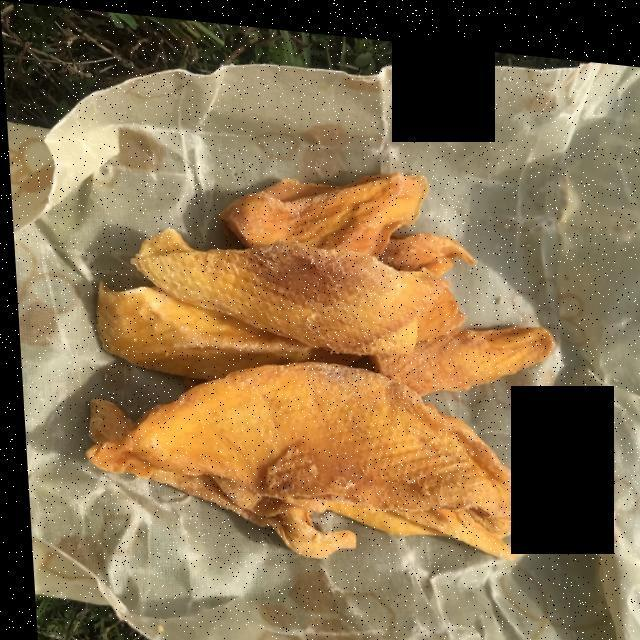mango-dried: (43, 138, 544, 577)
